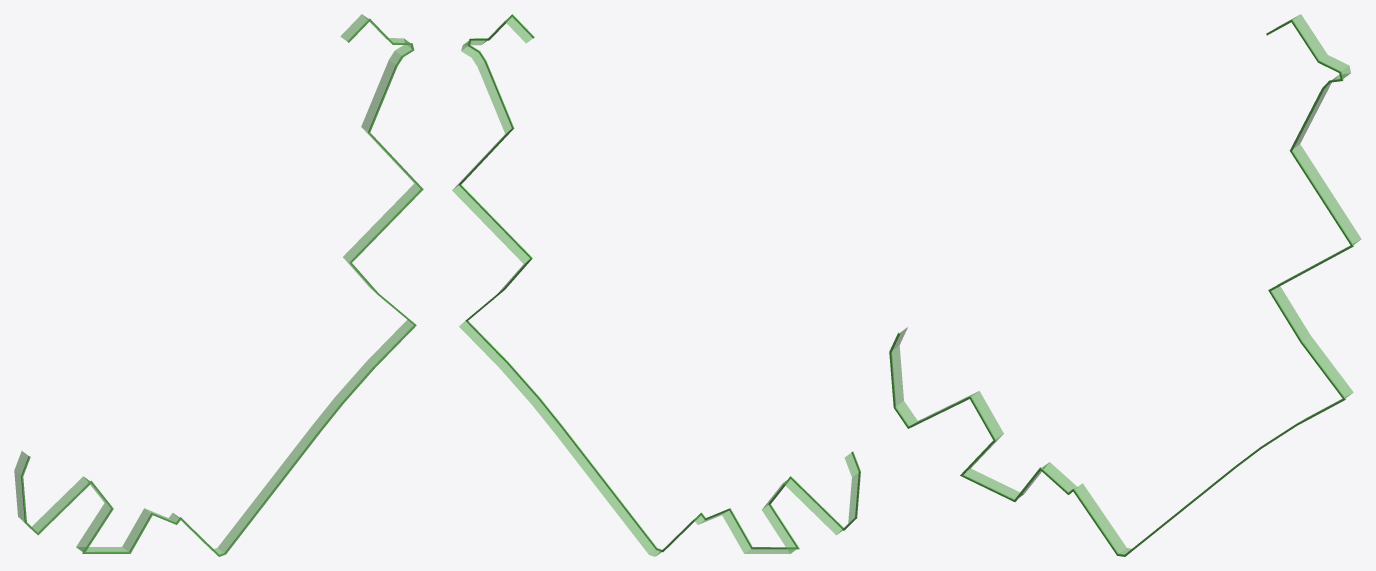
Rendered from busLineBlue.glb.
3 renders of one model, left to right at view 1: azimuth 30°, elevation 25°; view 2: azimuth 150°, elevation 25°; view 3: azimuth 330°, elevation 25°, orthographic. The views are drawn at different scales.
Visible parts, largest first — view 1: green, greenLine; view 2: green, greenLine; view 3: green, greenLine.
Boxes of the visible parts, x1=… form: green: x1=14, y1=14, x2=420, y2=554; greenLine: x1=21, y1=18, x2=423, y2=556; green: x1=452, y1=16, x2=859, y2=556; greenLine: x1=459, y1=14, x2=860, y2=552; green: x1=892, y1=14, x2=1361, y2=554; greenLine: x1=889, y1=19, x2=1353, y2=556.
Size of the model in its own units: 525 by 625 by 18.66.
